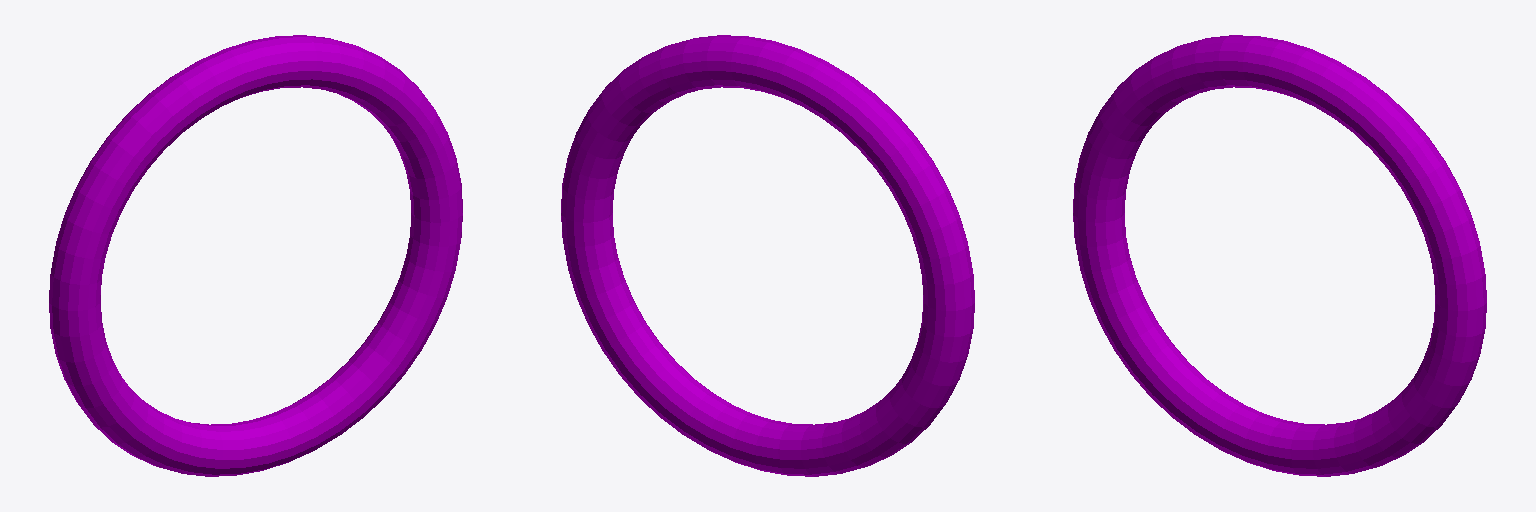
Rendered from checkpoint.obj.
3 renders of one model, left to right at view 1: azimuth 30°, elevation 25°; view 2: azimuth 150°, elevation 25°; view 3: azimuth 330°, elevation 25°, orthographic.
Visible parts, largest first — view 1: Torus.003; view 2: Torus.003; view 3: Torus.003.
Boxes of the visible parts, x1,y1,x2,y2 form: Torus.003: [49, 35, 462, 476]; Torus.003: [561, 35, 974, 476]; Torus.003: [1073, 35, 1486, 476].
Size of the model in its own units: 4.5 by 4.5 by 0.5.